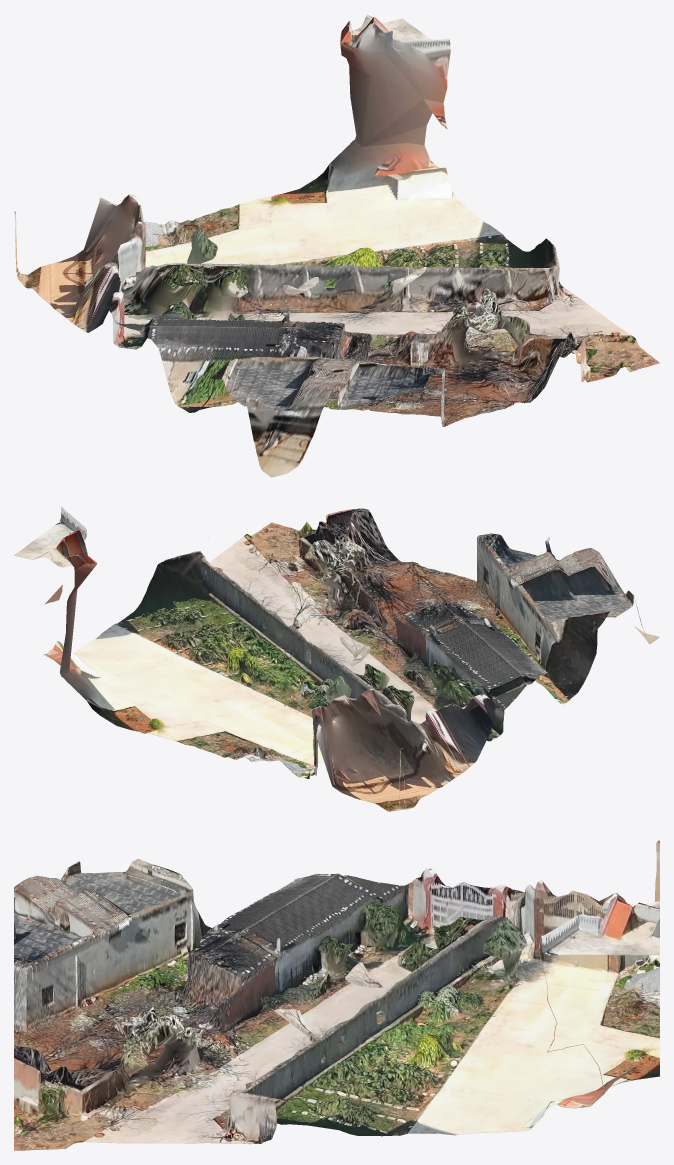
File: BlockBY_L20_297.glb
The picture shows the model from 3 angles, top to bottom: view 1: azimuth 30°, elevation 25°; view 2: azimuth 150°, elevation 25°; view 3: azimuth 270°, elevation 25°; orthographic projection. The views are drawn at different scales.
Visible parts, largest first — view 1: rtc; view 2: rtc; view 3: rtc.
Boxes of the visible parts, box(x1,y1,x2,y2) form: rtc: box(14, 14, 659, 477); rtc: box(14, 506, 659, 811); rtc: box(14, 840, 659, 1150).
Bounding box in the file's own units: 36 × 17.68 × 41.35.
Materials: 5 (5 with a texture image).
